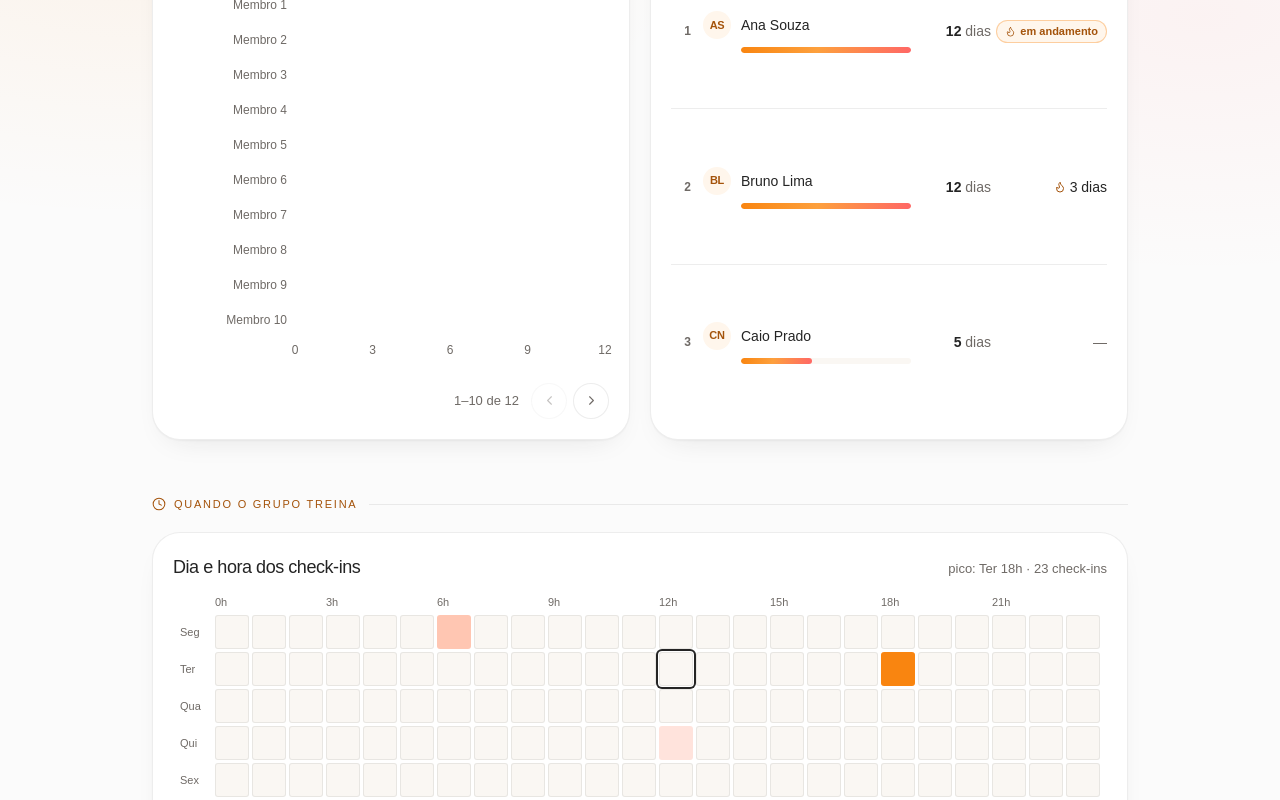
Scenario: StatsTab › paginates the member chart 10 at a time
(page scrolled)
Expected: the text "1–10 de 12" is shown, [454,391,519,410]
Expected: the button named "Página anterior" is disabled, [531,383,567,419]
Click the button named "Próxima página" at x=591, y=401, box [573,383,609,419]
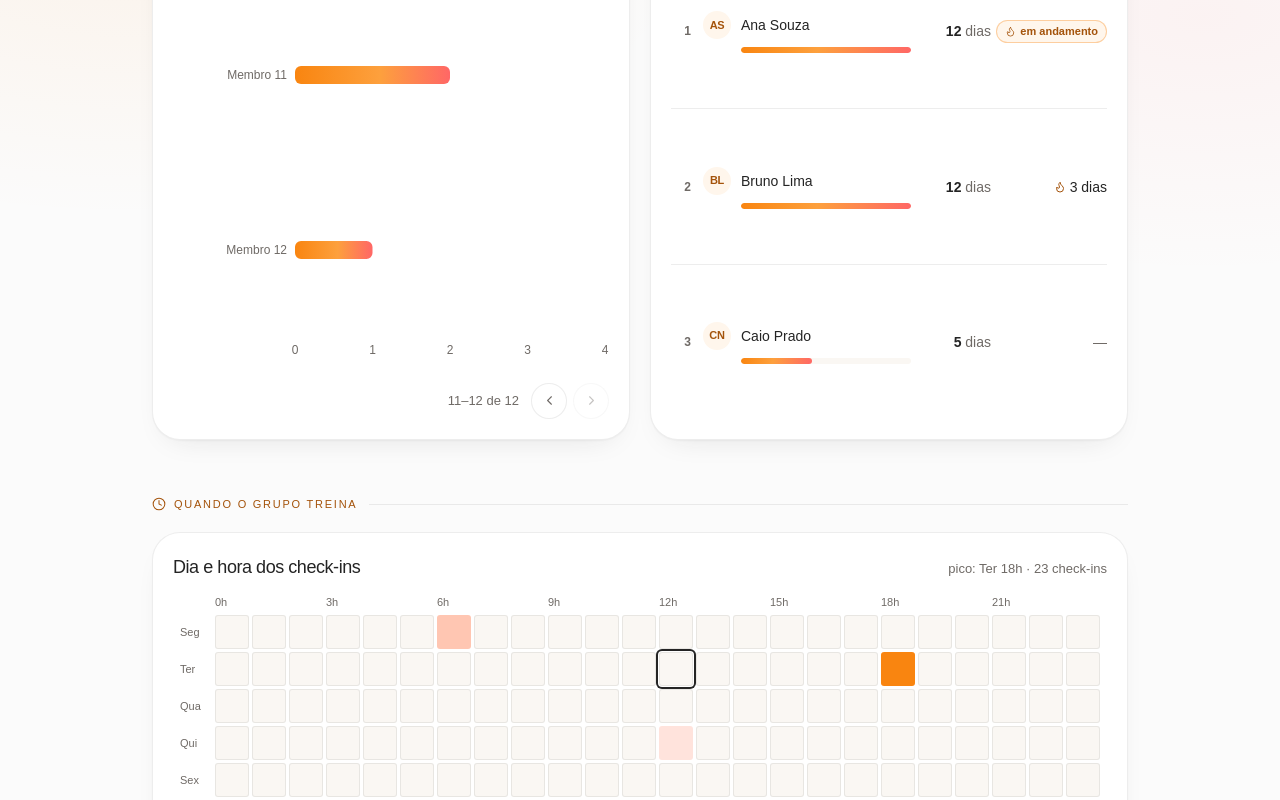
Expected: the text "11–12 de 12" is shown, [448,391,519,410]
